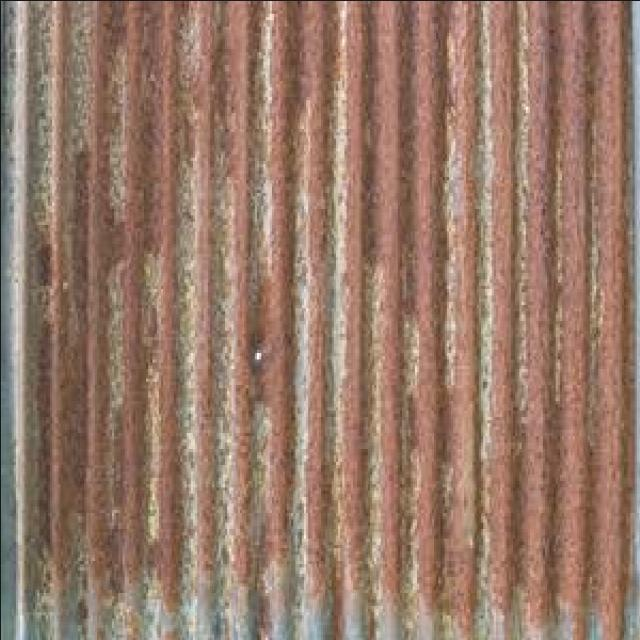wall_corrosion: (21, 2, 640, 640)
